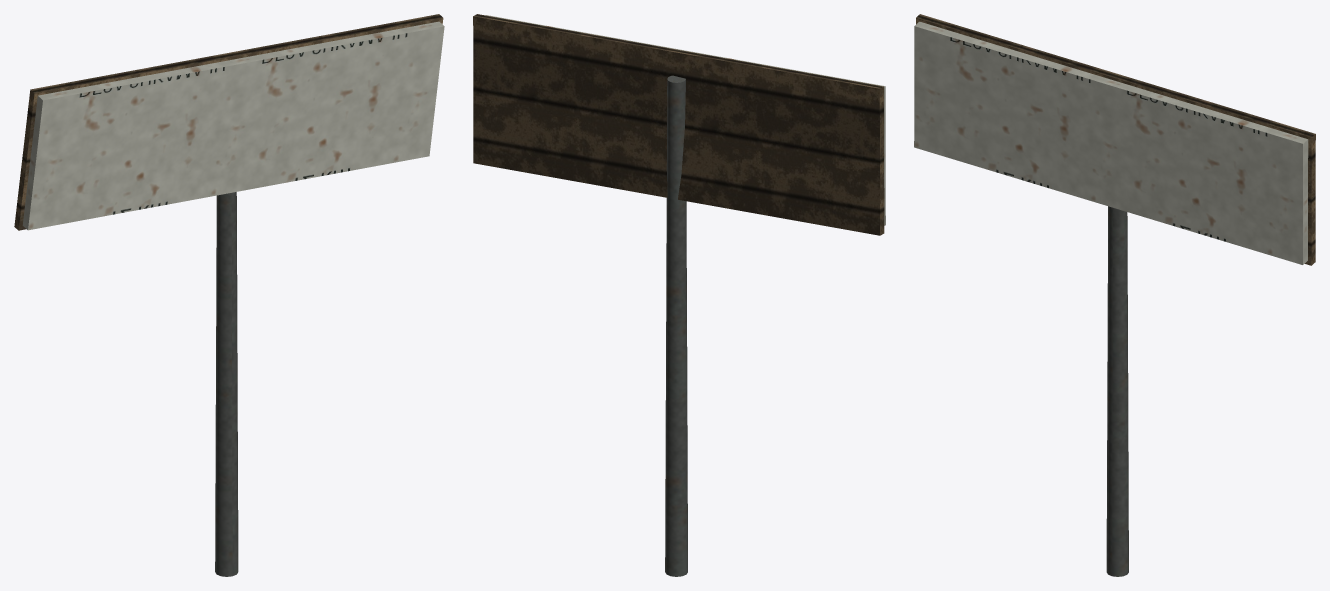
Rendered from road.prop.signpost.glb.
3 renders of one model, left to right at view 1: azimuth 30°, elevation 25°; view 2: azimuth 150°, elevation 25°; view 3: azimuth 330°, elevation 25°, orthographic. The views are drawn at different scales.
Parts seen in each view (by area): view 1: road.prop.signpost; view 2: road.prop.signpost; view 3: road.prop.signpost.
Part boxes in pixels (bbox=[...]): road.prop.signpost: bbox=[14, 14, 444, 576]; road.prop.signpost: bbox=[473, 14, 885, 576]; road.prop.signpost: bbox=[914, 14, 1315, 576].
Size of the model in its own units: 2.28 by 2.79 by 0.1863.
3 materials, 3 textured.
